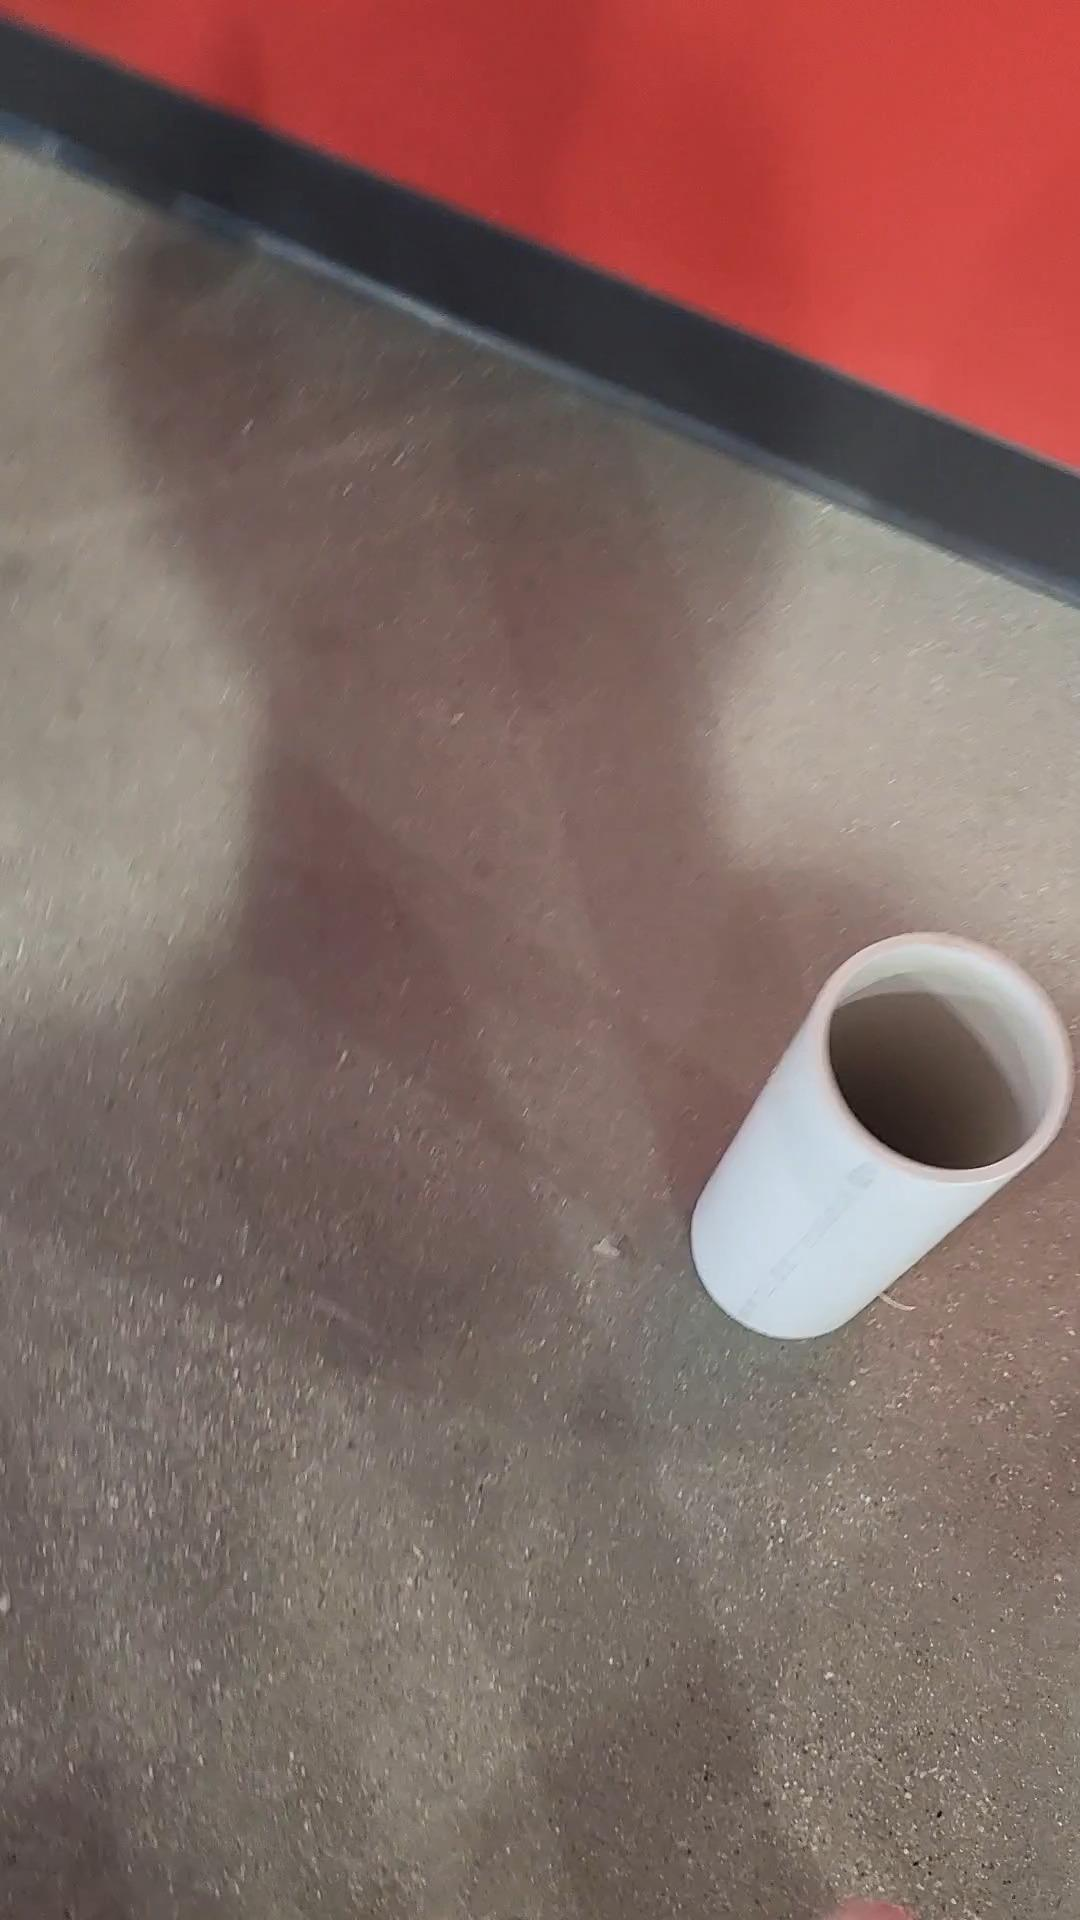coral: (690, 930, 1080, 1348)
